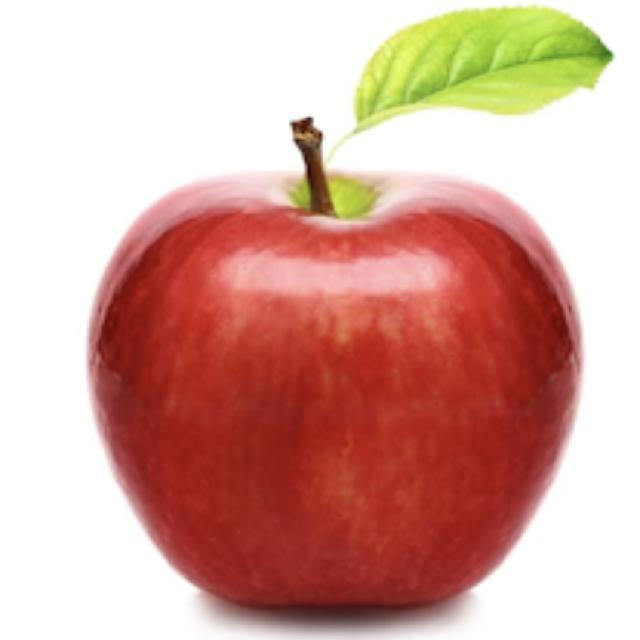Fresh Apple: (111, 162, 566, 620)
